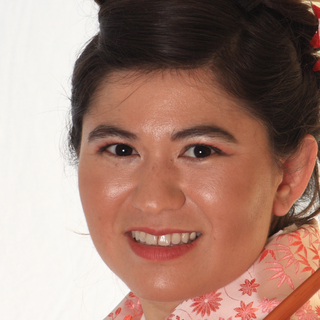eye: (167, 138, 233, 172), (94, 136, 144, 166)
